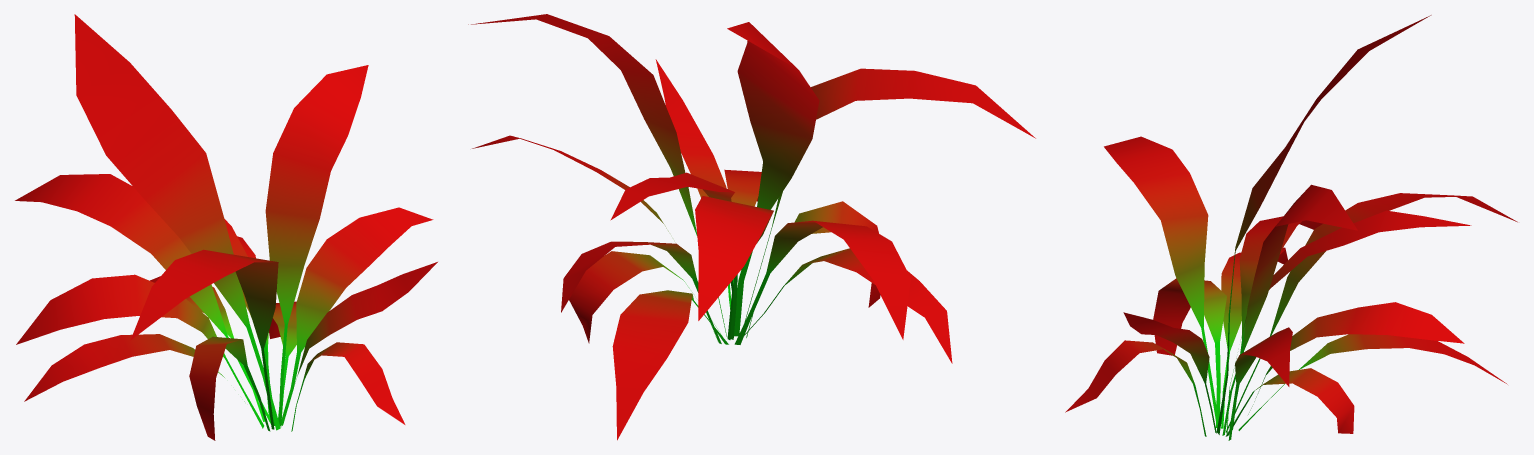
The model's file is Cast - Iron Plant_LOD2_Var2_shdmr.fbx.
3 views of the same model, side by side, from view 1: azimuth 30°, elevation 25°; view 2: azimuth 150°, elevation 25°; view 3: azimuth 270°, elevation 25° (orthographic). The views are drawn at different scales.
Visible parts, largest first — view 1: _6e5e_Var2_LOD2; view 2: _6e5e_Var2_LOD2; view 3: _6e5e_Var2_LOD2.
Boxes of the visible parts, left/top/right/bottom form: _6e5e_Var2_LOD2: left=15, top=14, right=437, bottom=440; _6e5e_Var2_LOD2: left=468, top=14, right=1035, bottom=440; _6e5e_Var2_LOD2: left=1065, top=15, right=1517, bottom=440.
Size of the model in its own units: 61.45 by 52.33 by 57.84.
